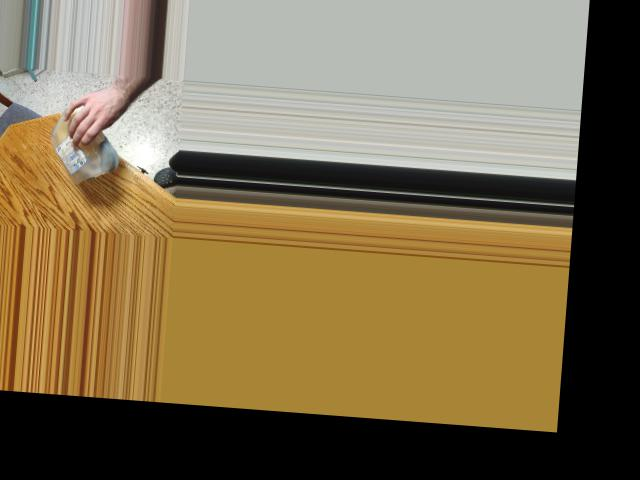cheese: (42, 98, 114, 188)
